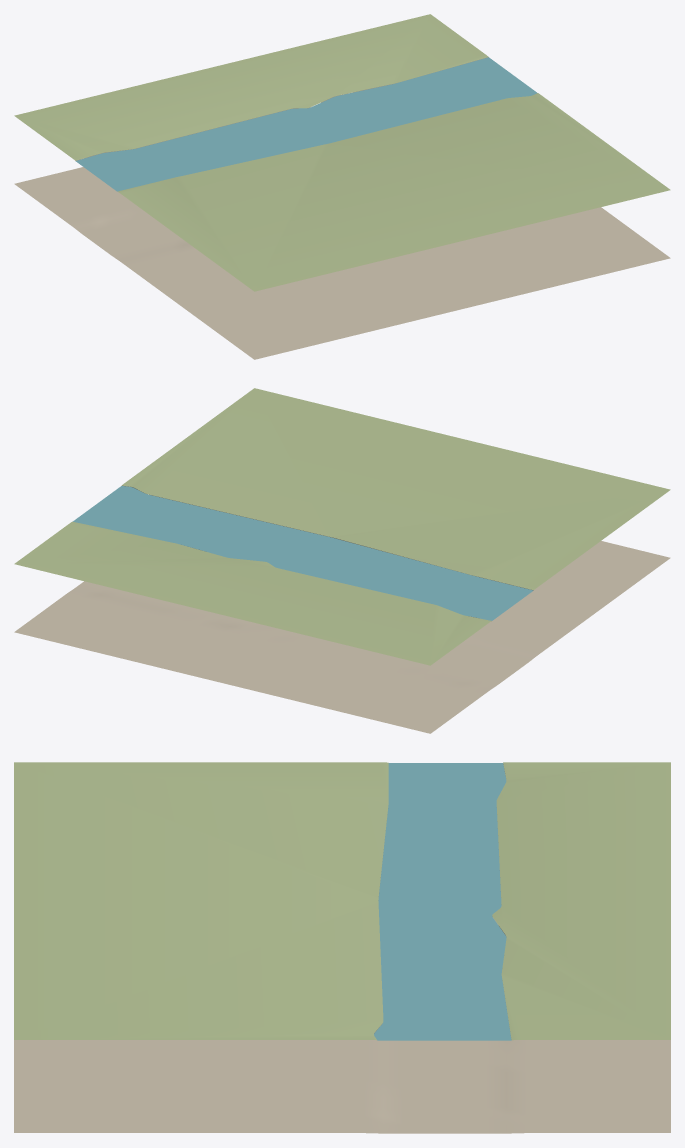
3 renders of one model, top to bottom at view 1: azimuth 30°, elevation 25°; view 2: azimuth 150°, elevation 25°; view 3: azimuth 270°, elevation 25°, orthographic. The views are drawn at different scales.
Visible parts, largest first — view 1: s_-3_6__grass, s_-3_6__soil, s_-3_6__water; view 2: s_-3_6__grass, s_-3_6__soil, s_-3_6__water; view 3: s_-3_6__grass, s_-3_6__soil, s_-3_6__water.
Part boxes in pixels (bbox=[...]): s_-3_6__grass: bbox=[14, 14, 670, 291]; s_-3_6__soil: bbox=[14, 167, 670, 359]; s_-3_6__water: bbox=[75, 57, 537, 191]; s_-3_6__grass: bbox=[14, 388, 670, 665]; s_-3_6__soil: bbox=[14, 541, 670, 733]; s_-3_6__water: bbox=[73, 486, 533, 620]; s_-3_6__grass: bbox=[14, 762, 670, 1040]; s_-3_6__soil: bbox=[14, 918, 670, 1133]; s_-3_6__water: bbox=[374, 763, 511, 1040].
Bounding box in the file's own units: 128 × 20.14 × 128.
